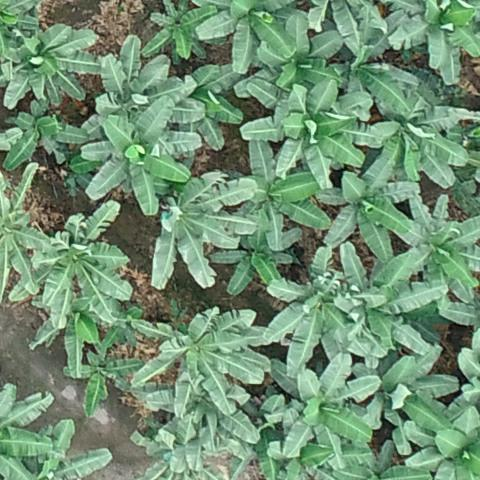Banana-plant: (132, 312, 271, 412), (239, 75, 363, 186), (12, 207, 132, 319), (82, 98, 189, 213), (271, 355, 380, 467), (81, 32, 201, 133), (340, 243, 445, 353), (354, 348, 457, 457), (226, 139, 329, 247), (153, 174, 249, 288), (367, 90, 467, 194), (263, 247, 347, 368), (320, 159, 415, 257), (396, 197, 480, 293), (385, 0, 480, 83), (3, 26, 100, 107), (335, 39, 421, 125), (246, 13, 343, 87), (194, 0, 294, 71), (0, 163, 48, 304), (0, 102, 83, 172), (212, 229, 292, 299), (67, 338, 141, 411), (405, 411, 480, 480), (34, 291, 99, 366), (140, 0, 213, 63), (0, 0, 39, 57)
